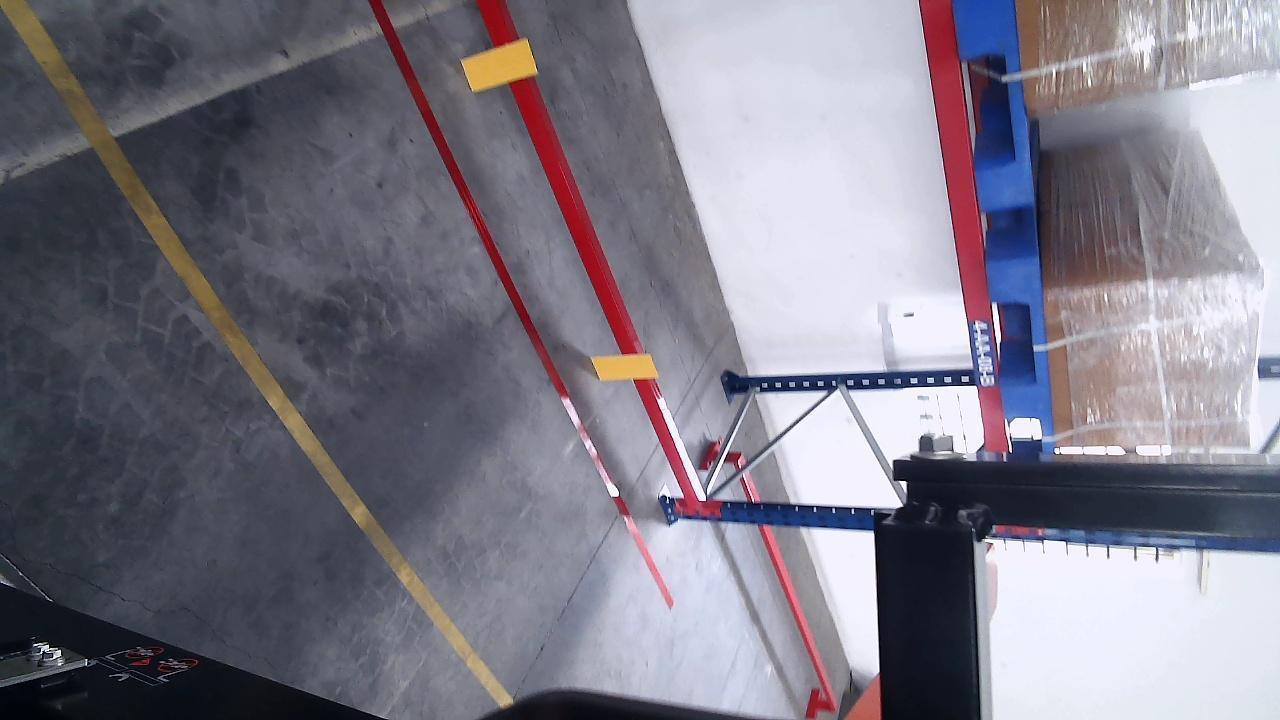red_line: (367, 0, 675, 613)
yellow_line: (2, 0, 516, 709)
